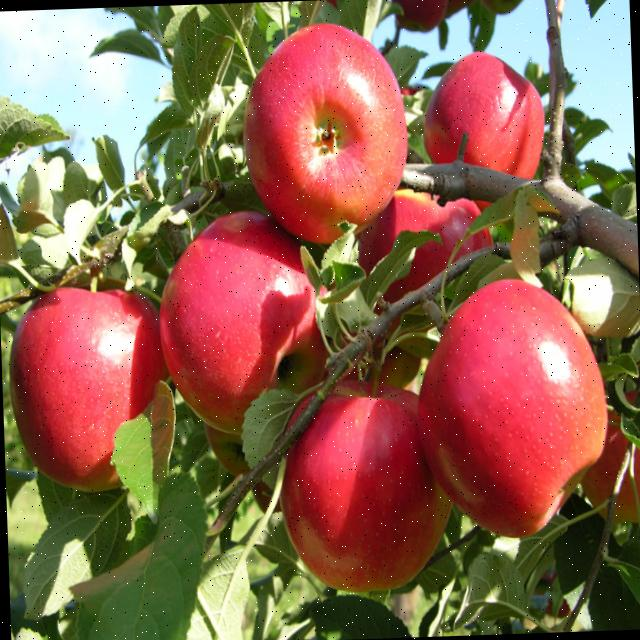Apel: (412, 274, 610, 541), (154, 205, 332, 438), (238, 19, 411, 247), (276, 376, 454, 594), (5, 282, 174, 496), (420, 48, 548, 212), (354, 184, 494, 310), (559, 242, 640, 341), (577, 402, 640, 524), (203, 421, 281, 515), (203, 422, 250, 477), (374, 343, 421, 392), (389, 0, 449, 32), (476, 0, 526, 14), (441, 0, 476, 16)
